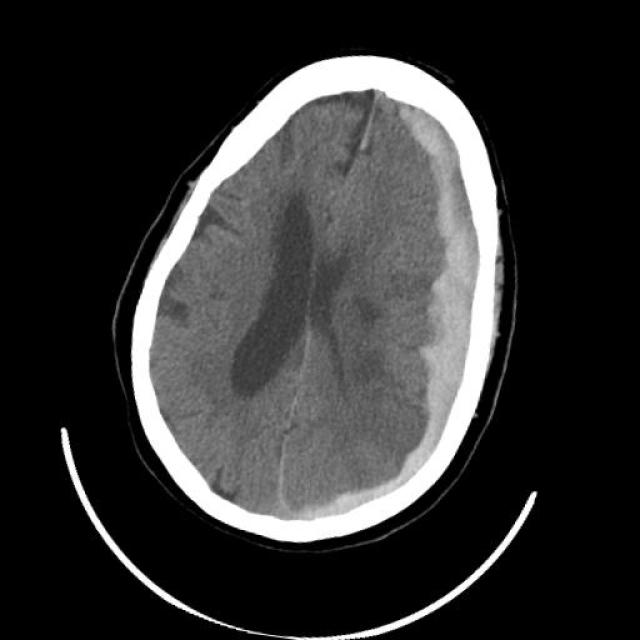Subdural: (308, 95, 552, 570)
